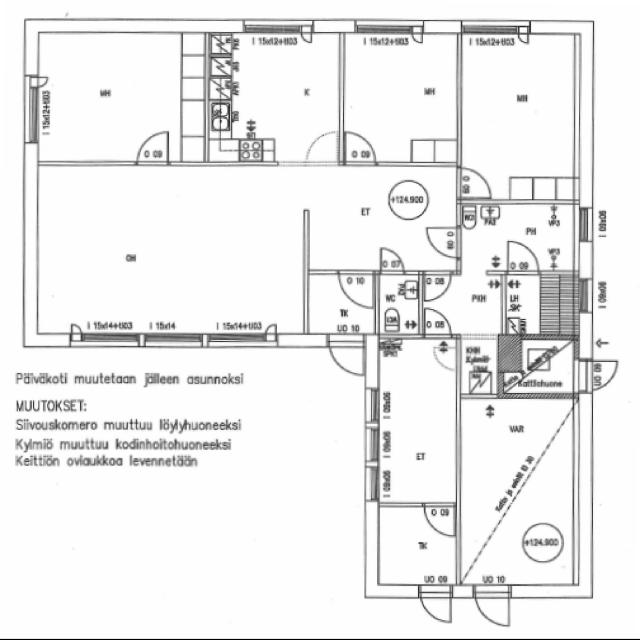door: (419, 273, 504, 339), (312, 269, 379, 332), (423, 224, 459, 300), (473, 585, 512, 630), (336, 270, 376, 312), (327, 338, 368, 378), (132, 127, 172, 166), (575, 358, 618, 393), (302, 127, 340, 166), (456, 164, 496, 201), (418, 584, 453, 626), (424, 224, 462, 262), (341, 128, 378, 166), (504, 237, 541, 275), (422, 502, 456, 538), (420, 271, 452, 304), (422, 306, 453, 337), (429, 342, 461, 372), (376, 245, 406, 275), (66, 321, 84, 342), (298, 26, 315, 46), (262, 322, 280, 340), (409, 28, 424, 47), (516, 29, 530, 47)
window: (18, 76, 46, 149), (44, 155, 136, 171), (140, 330, 206, 351), (205, 331, 272, 350), (76, 330, 142, 349), (360, 417, 383, 470), (240, 20, 308, 37), (352, 21, 414, 38), (460, 22, 522, 38), (574, 205, 596, 248), (361, 384, 382, 428), (421, 20, 463, 36), (569, 170, 583, 203)
zone: (34, 160, 308, 339), (32, 32, 200, 164), (458, 31, 581, 199), (209, 32, 344, 164), (305, 165, 461, 272), (340, 32, 461, 164), (375, 338, 459, 507), (456, 202, 584, 273), (375, 506, 457, 587), (420, 273, 505, 339), (503, 272, 587, 338), (307, 274, 377, 336), (515, 338, 575, 397), (376, 273, 421, 338)
